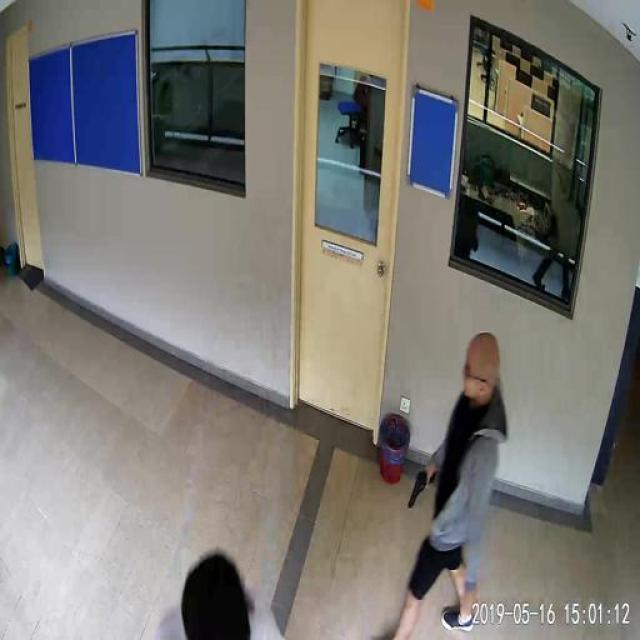Gun: (400, 462, 442, 515)
